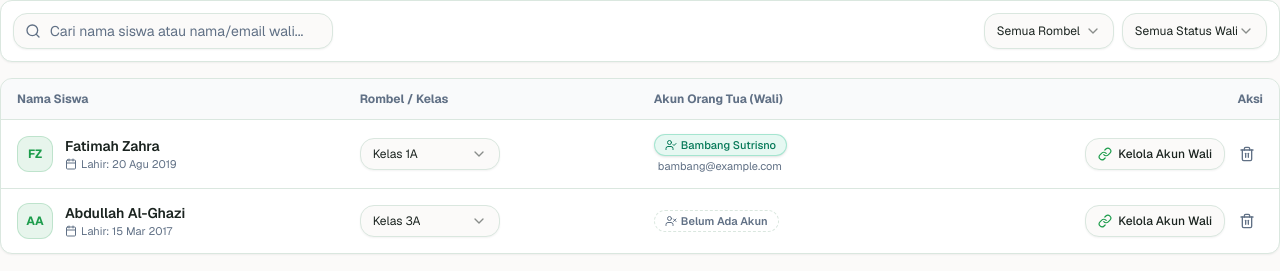
SiswaTable Component › filters students by search input
The width and height of the screenshot is (1280, 271).
Type "Fatimah" into the field with placeholder "Cari nama siswa atau nama/email wali..." at (173, 31), box [13,13,333,49]
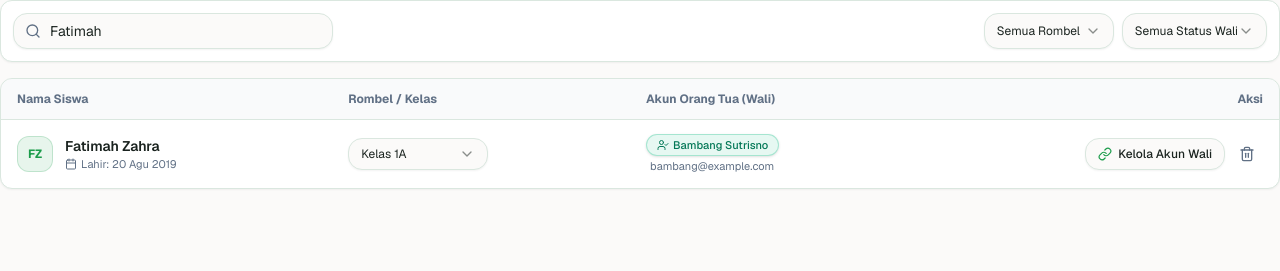
Now the text "Abdullah Al-Ghazi" is gone
